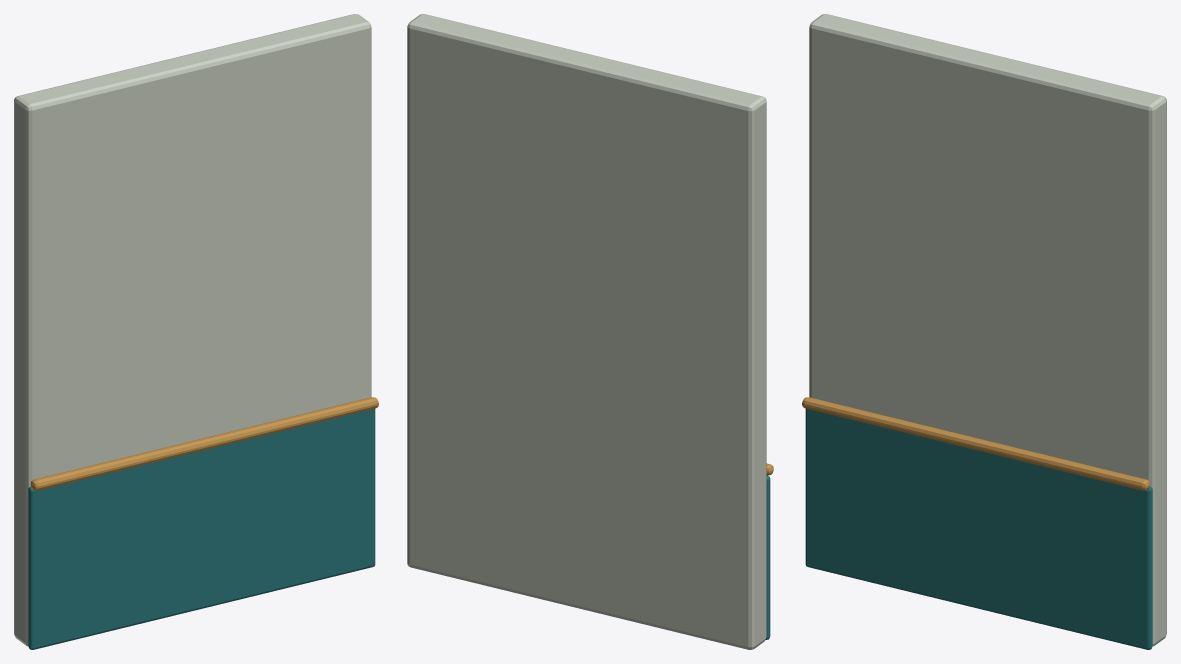
File: wall_panel_2m.glb
3 views of the same model, side by side, from view 1: azimuth 30°, elevation 25°; view 2: azimuth 150°, elevation 25°; view 3: azimuth 330°, elevation 25° (orthographic).
Visible parts, largest first — view 1: wall_panel_2m; view 2: wall_panel_2m; view 3: wall_panel_2m.
Boxes of the visible parts, x1,y1,x2,y2 form: wall_panel_2m: [14, 14, 378, 649]; wall_panel_2m: [407, 14, 773, 649]; wall_panel_2m: [802, 14, 1166, 649].
Size of the model in its own units: 2 by 3 by 0.23.
